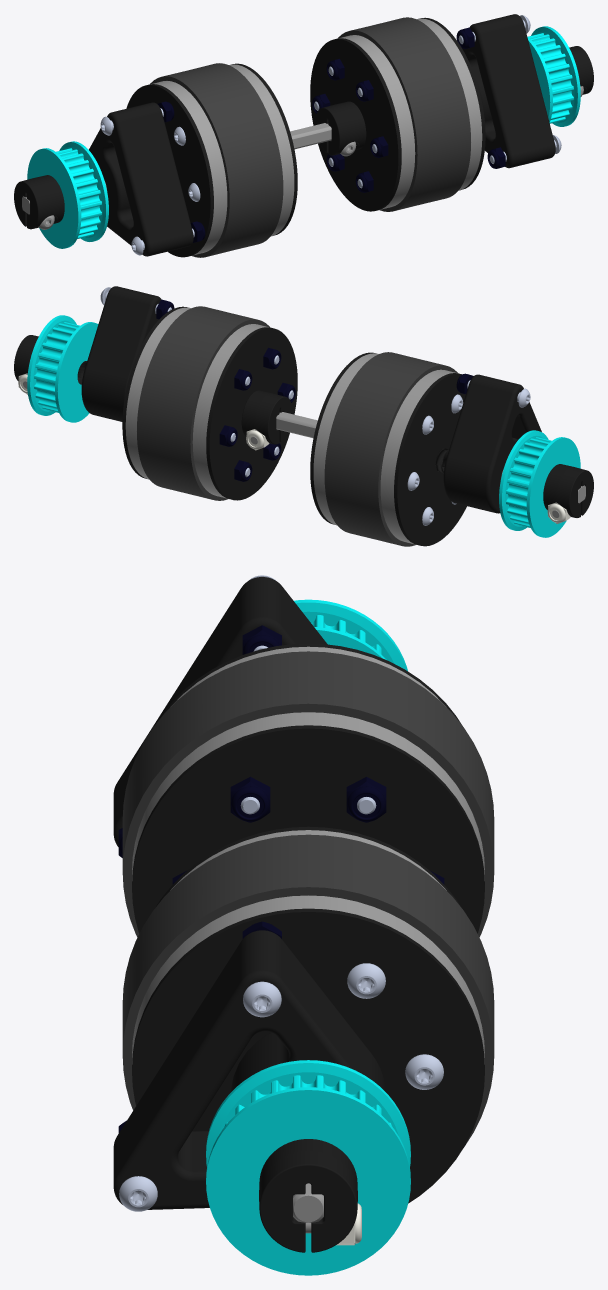
Rendered from Flywheel Assembly.fbx.
3 renders of one model, top to bottom at view 1: azimuth 30°, elevation 25°; view 2: azimuth 150°, elevation 25°; view 3: azimuth 270°, elevation 25°, orthographic. The views are drawn at different scales.
Visible parts, largest first — view 1: Body1 (×16), Body2 (×2); view 2: Body1 (×16), Body2 (×2); view 3: Body1 (×20), Body2 (×2).
Part boxes in pixels (x1=…): Body1 (×16): x1=14, y1=14, x2=593, y2=257; Body2 (×2): x1=229, y1=35, x2=415, y2=236; Body1 (×16): x1=14, y1=286, x2=593, y2=546; Body2 (×2): x1=192, y1=324, x2=378, y2=525; Body1 (×20): x1=113, y1=577, x2=494, y2=1275; Body2 (×2): x1=132, y1=712, x2=484, y2=890.
Bounding box in the file's own units: 10.37 × 3 × 3.07.
